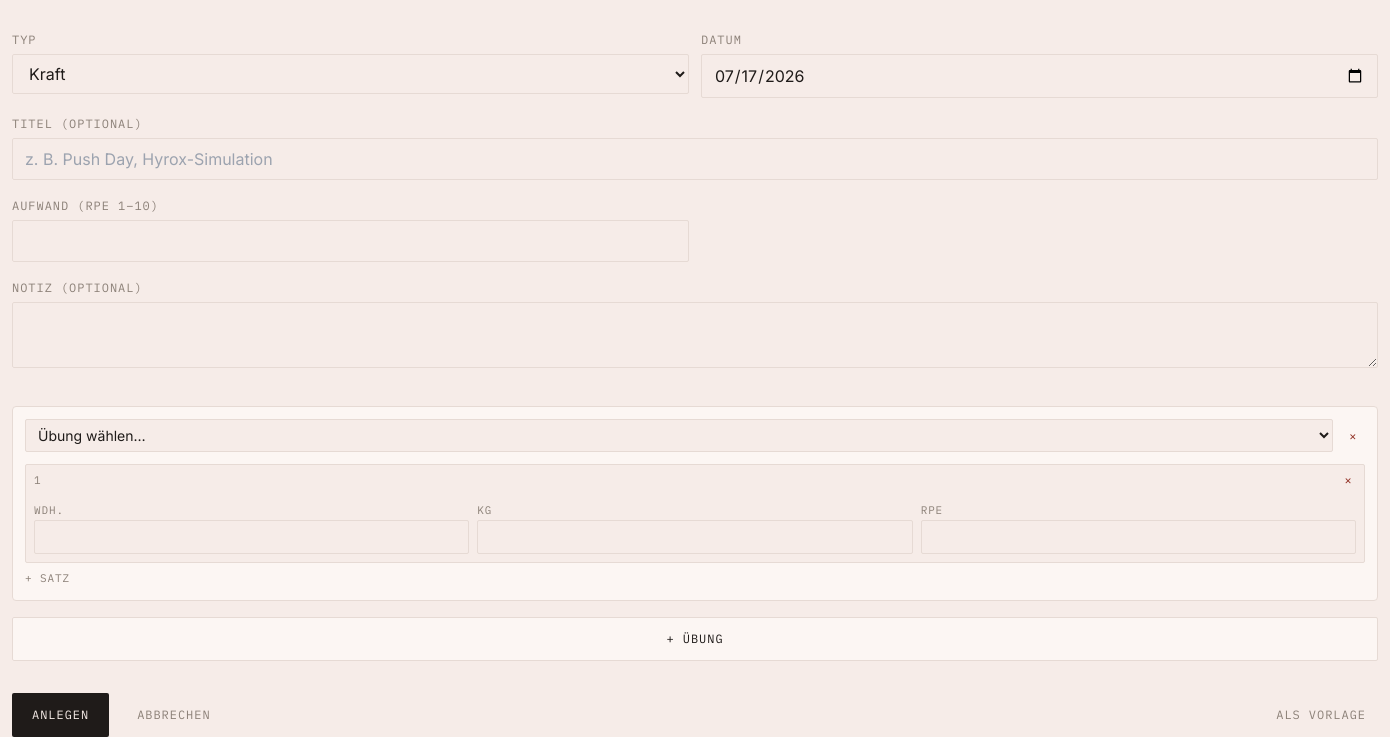
WorkoutLogger — Aktionen (Smoke) › "Als Vorlage"-Button öffnet Template-Modal
This screenshot has width=1390, height=737.
(page scrolled)
Click the button "Als Vorlage".
click(1321, 715)  # box x1=1264 y1=693 x2=1378 y2=736
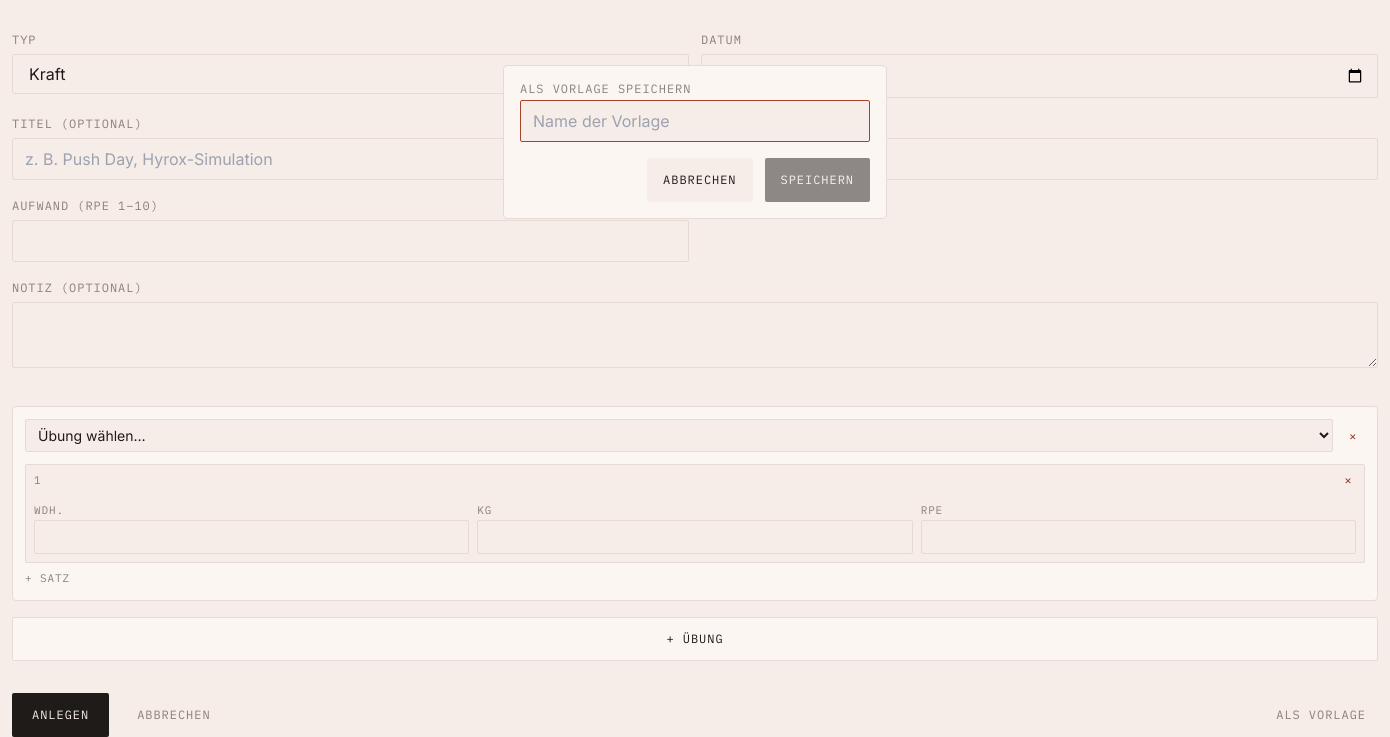
Now the text "Als Vorlage speichern" is shown, box x1=520 y1=81 x2=691 y2=96
